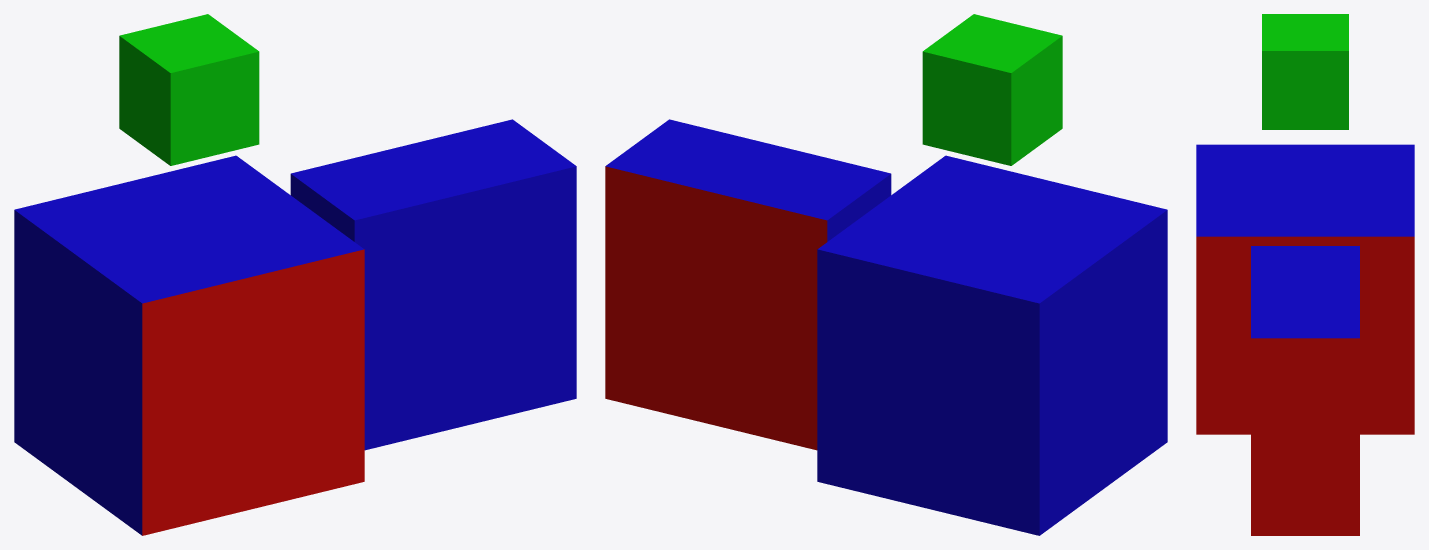
The model's file is toPaletteMesh.gltf.
3 views of the same model, side by side, from view 1: azimuth 30°, elevation 25°; view 2: azimuth 150°, elevation 25°; view 3: azimuth 270°, elevation 25° (orthographic). The views are drawn at different scales.
Parts seen in each view (by area): view 1: static_01, static_02, not_static; view 2: static_01, static_02, not_static; view 3: static_01, static_02, not_static.
Part boxes in pixels (x1,y1,x2,y2): static_01: (14,155,364,535); static_02: (290,119,576,450); not_static: (119,14,259,165); static_01: (817,155,1167,535); static_02: (605,119,891,450); not_static: (922,14,1062,165); static_01: (1196,144,1414,434); static_02: (1251,246,1359,535); not_static: (1262,14,1348,129).
Bounding box in the file's own units: 4.2 × 3.6 × 2.
